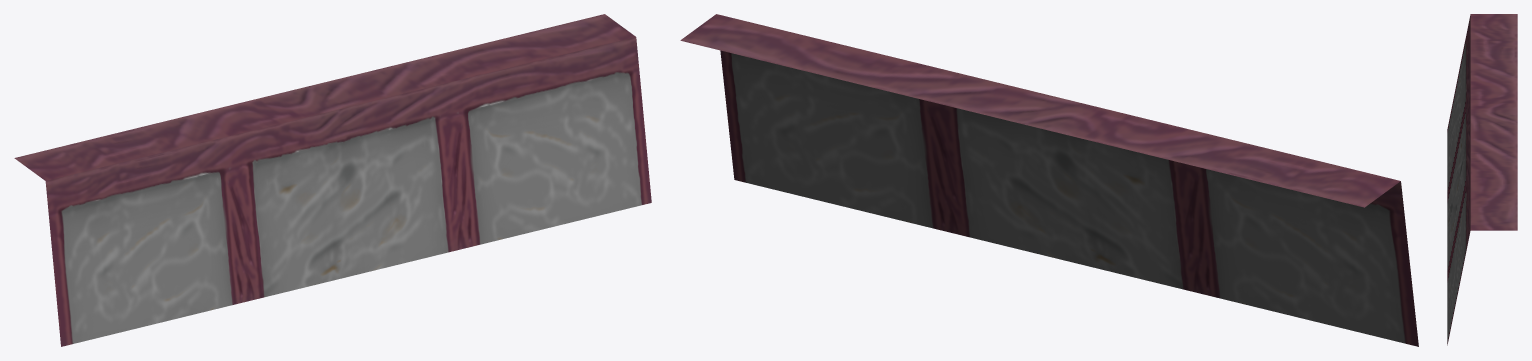
The model's file is MOD_WallBase_Block.fbx.
3 renders of one model, left to right at view 1: azimuth 30°, elevation 25°; view 2: azimuth 150°, elevation 25°; view 3: azimuth 270°, elevation 25°, orthographic. The views are drawn at different scales.
Parts seen in each view (by area): view 1: MOD_WallBase; view 2: MOD_WallBase; view 3: MOD_WallBase.
Part boxes in pixels (x1,y1,x2,y2): MOD_WallBase: [14, 14, 651, 346]; MOD_WallBase: [680, 14, 1418, 346]; MOD_WallBase: [1447, 14, 1517, 345].
Bounding box in the file's own units: 400 × 100 × 55.
Materials: 1 (1 with a texture image).
